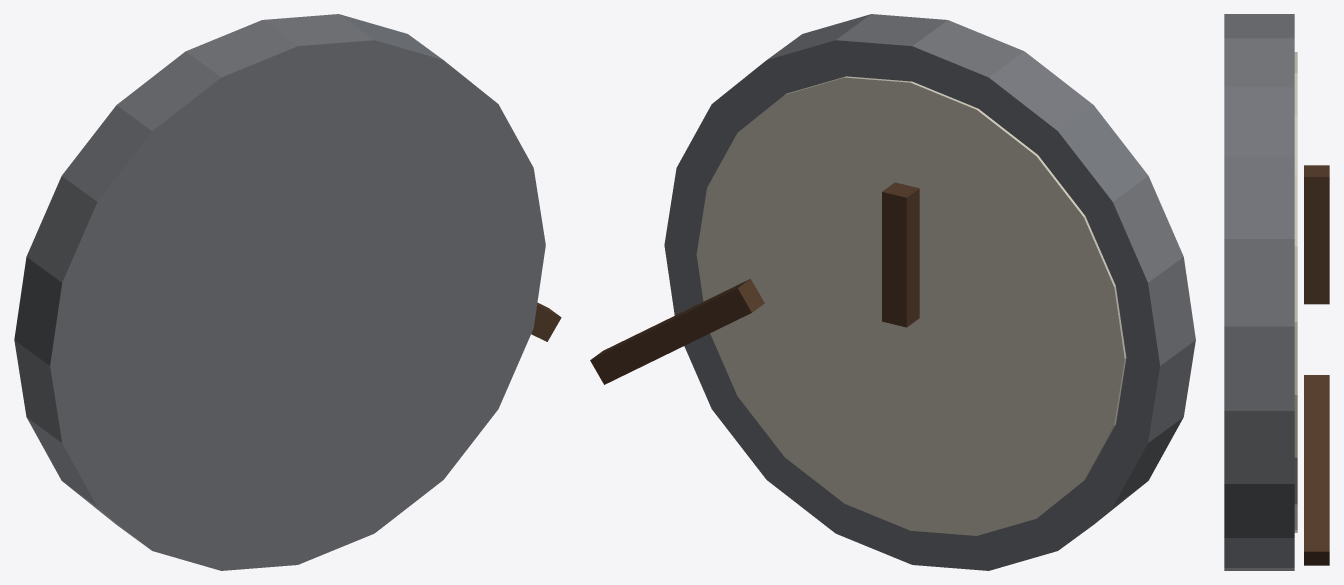
The model's file is SM_K_Clock.obj.
3 views of the same model, side by side, from view 1: azimuth 30°, elevation 25°; view 2: azimuth 150°, elevation 25°; view 3: azimuth 270°, elevation 25° (orthographic). The views are drawn at different scales.
Visible parts, largest first — view 1: SM_K_Clock; view 2: SM_K_Clock; view 3: SM_K_Clock.
Boxes of the visible parts, x1=… form: SM_K_Clock: x1=14, y1=14, x2=561, y2=570; SM_K_Clock: x1=590, y1=14, x2=1195, y2=570; SM_K_Clock: x1=1224, y1=14, x2=1329, y2=570.
Size of the model in its own units: 0.4901 by 0.44 by 0.0825.
